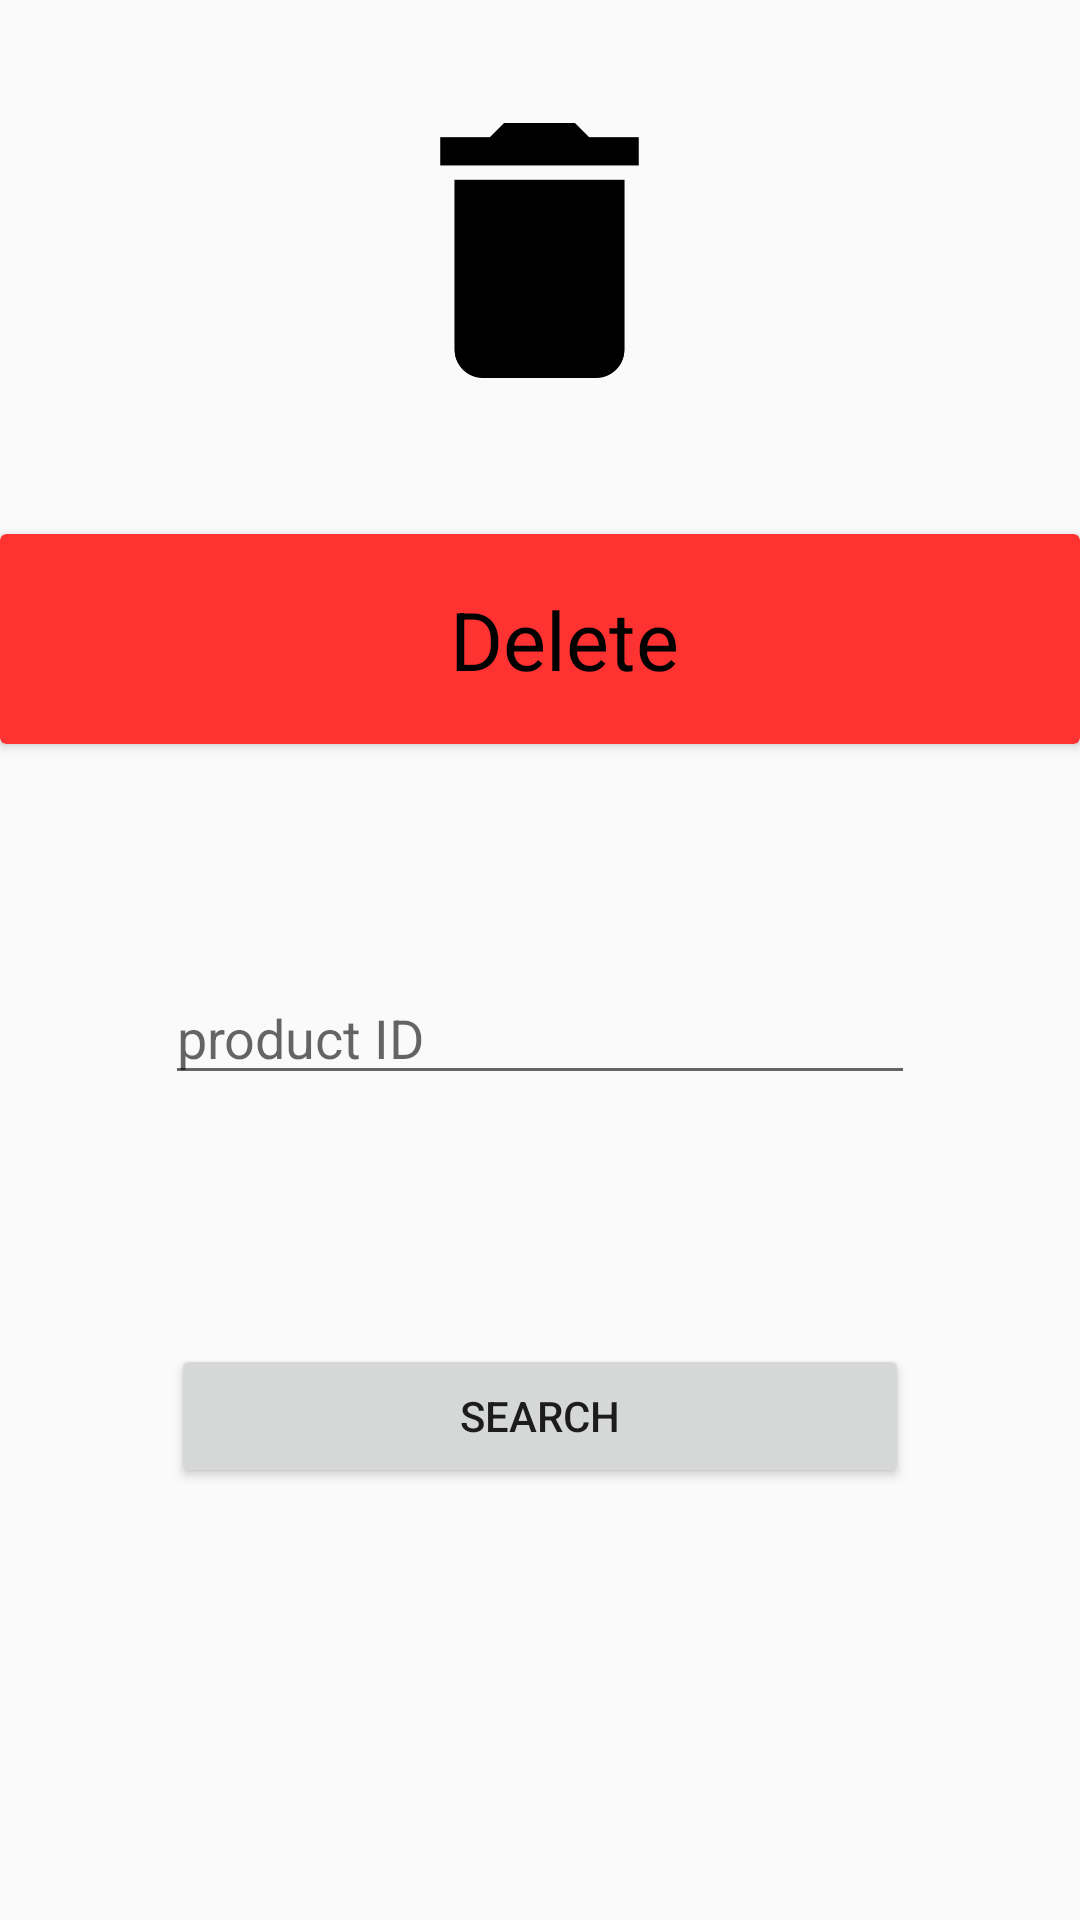

Named icons in this screenshot (1080px×1920px) and their bounding boxes, (x1, y1, x2, y2):
delete: (440, 123, 639, 378)
